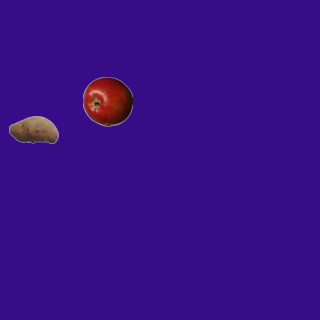Apple Braeburn: (82, 76, 132, 126)
Potato Sweet: (8, 104, 58, 154)
